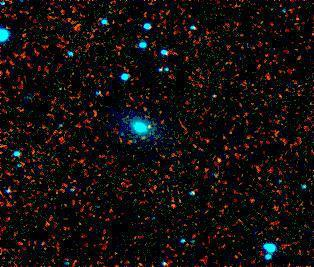star: (140, 111, 170, 141)
